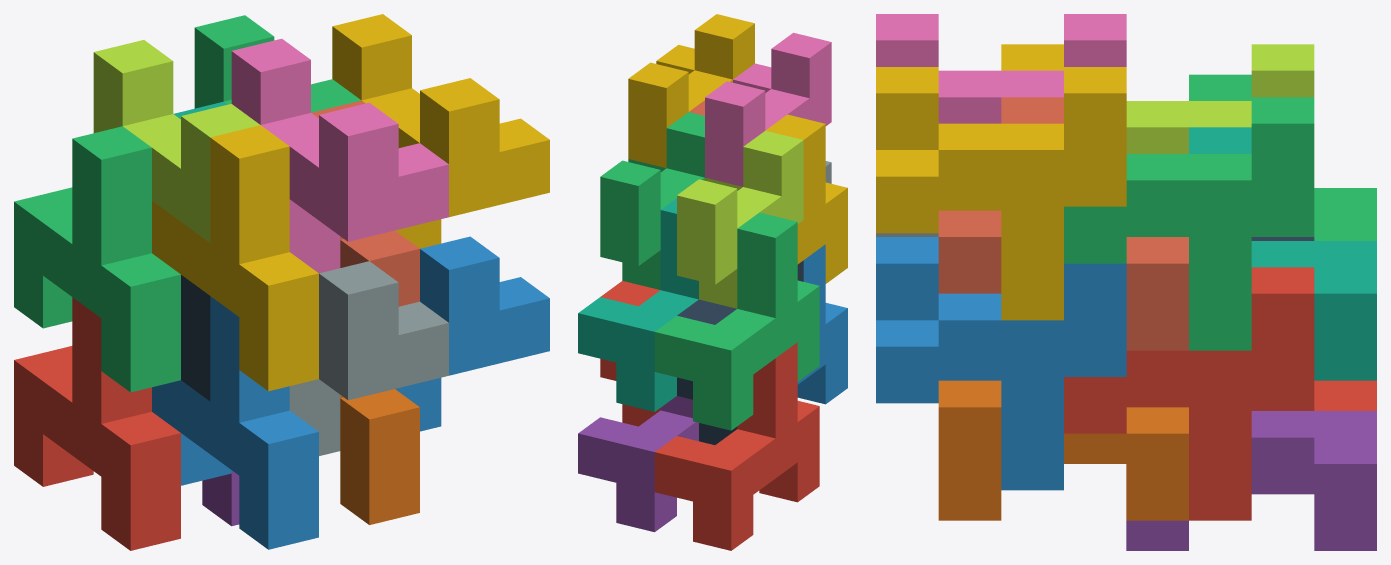
Rendered from tiling.obj.
3 views of the same model, side by side, from view 1: azimuth 30°, elevation 25°; view 2: azimuth 150°, elevation 25°; view 3: azimuth 270°, elevation 25° (orthographic). The views are drawn at different scales.
Parts seen in each view (by area): view 1: copy_1_domain_3, copy_2_domain_4, copy_1_domain_4, copy_1_domain_1, copy_2_domain_8, copy_1_domain_2, copy_2_domain_2, copy_2_domain_3, copy_2_domain_6, copy_1_domain_6, copy_2_domain_7, copy_1_domain_8 (+2 smaller); view 2: copy_1_domain_3, copy_1_domain_1, copy_2_domain_3, copy_2_domain_4, copy_2_domain_7, copy_1_domain_7, copy_2_domain_8, copy_1_domain_5, copy_1_domain_4, copy_1_domain_2, copy_2_domain_1, copy_2_domain_5; view 3: copy_2_domain_8, copy_2_domain_6, copy_2_domain_7, copy_2_domain_5, copy_1_domain_6, copy_1_domain_5, copy_1_domain_8, copy_1_domain_7, copy_2_domain_4, copy_2_domain_3, copy_1_domain_3, copy_1_domain_1 (+1 smaller).
Boxes of the visible parts, x1=… form: copy_1_domain_3: x1=14, y1=126, x2=180, y2=392; copy_2_domain_4: x1=231, y1=38, x2=448, y2=273; copy_1_domain_4: x1=152, y1=125, x2=318, y2=391; copy_1_domain_1: x1=14, y1=297, x2=180, y2=550; copy_2_domain_8: x1=332, y1=14, x2=549, y2=248; copy_1_domain_2: x1=152, y1=296, x2=318, y2=549; copy_2_domain_2: x1=289, y1=261, x2=448, y2=455; copy_2_domain_3: x1=93, y1=40, x2=259, y2=242; copy_2_domain_6: x1=395, y1=236, x2=549, y2=431; copy_1_domain_6: x1=340, y1=389, x2=419, y2=524; copy_2_domain_7: x1=194, y1=15, x2=361, y2=112; copy_1_domain_8: x1=311, y1=100, x2=419, y2=306; copy_1_domain_3: x1=654, y1=212, x2=819, y2=430; copy_1_domain_1: x1=654, y1=342, x2=819, y2=550; copy_2_domain_3: x1=677, y1=130, x2=803, y2=308; copy_2_domain_4: x1=705, y1=32, x2=831, y2=186; copy_2_domain_7: x1=600, y1=112, x2=704, y2=289; copy_1_domain_7: x1=578, y1=198, x2=698, y2=411; copy_2_domain_8: x1=628, y1=14, x2=754, y2=167; copy_1_domain_5: x1=578, y1=396, x2=698, y2=532; copy_1_domain_4: x1=766, y1=114, x2=847, y2=283; copy_1_domain_2: x1=797, y1=244, x2=847, y2=404; copy_2_domain_1: x1=677, y1=260, x2=803, y2=444; copy_2_domain_5: x1=600, y1=281, x2=660, y2=426; copy_2_domain_8: x1=876, y1=67, x2=1126, y2=320; copy_2_domain_6: x1=876, y1=237, x2=1126, y2=490; copy_2_domain_7: x1=1064, y1=97, x2=1314, y2=350; copy_2_domain_5: x1=1064, y1=267, x2=1314, y2=520; copy_1_domain_6: x1=938, y1=380, x2=1188, y2=520; copy_1_domain_5: x1=1126, y1=411, x2=1376, y2=550; copy_1_domain_8: x1=938, y1=97, x2=1188, y2=350; copy_1_domain_7: x1=1189, y1=127, x2=1376, y2=380; copy_2_domain_4: x1=876, y1=14, x2=1126, y2=123; copy_2_domain_3: x1=1126, y1=44, x2=1314, y2=153; copy_1_domain_3: x1=1189, y1=74, x2=1376, y2=240; copy_1_domain_1: x1=1251, y1=380, x2=1376, y2=410.
Bounding box in the file's own units: 6 × 9 × 8.
